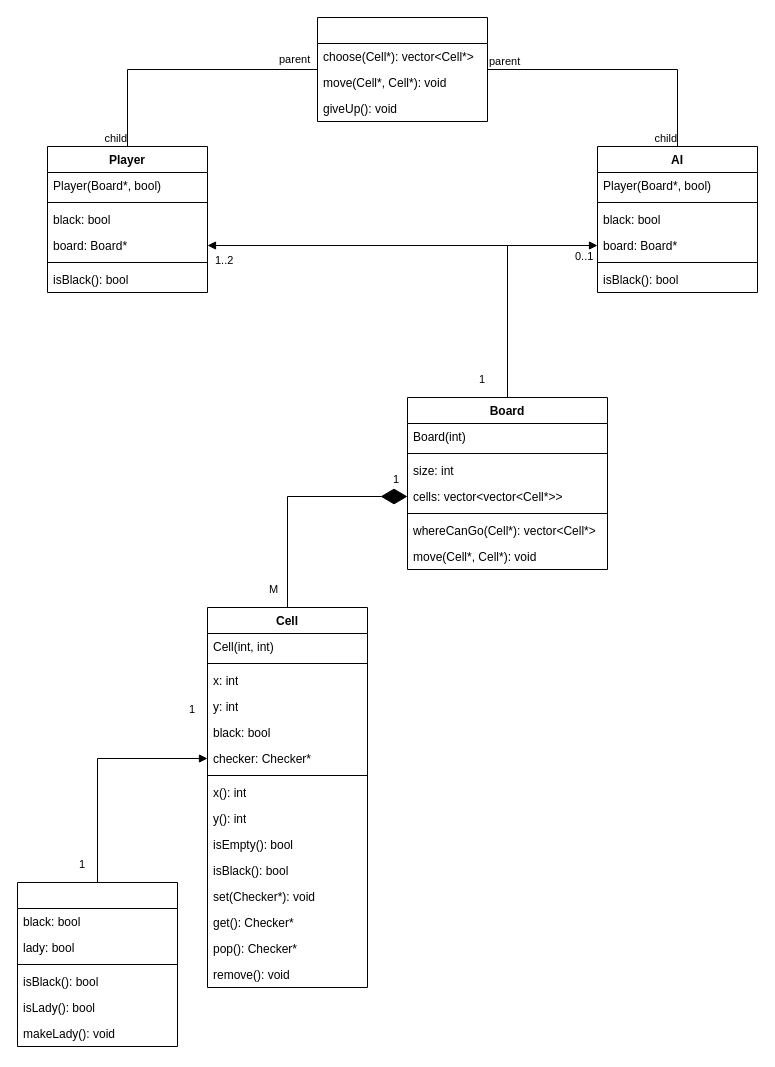
Image size: 775x1067. Some labels were removed from this diagram. Each missing label, with the box of its shape:
Checker: (16, 882, 178, 1046)
IPlayer: (316, 16, 488, 122)
